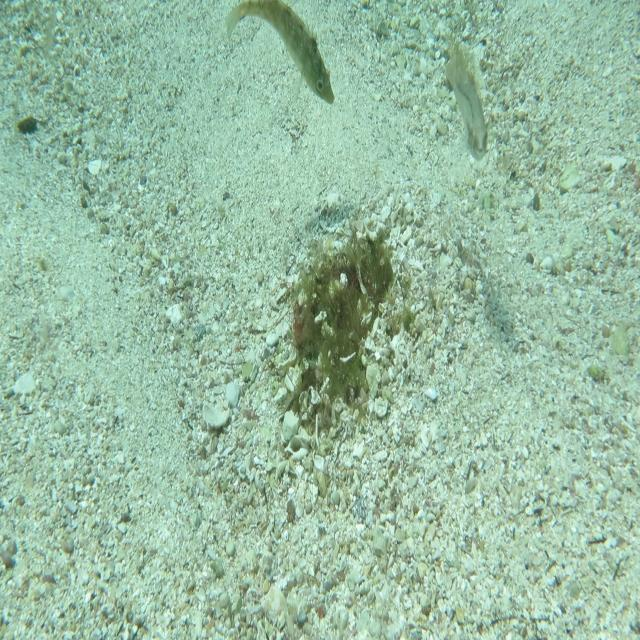CHASE_FLEE: (224, 0, 335, 105)
female: (439, 54, 493, 160)
nest: (265, 204, 409, 441)
